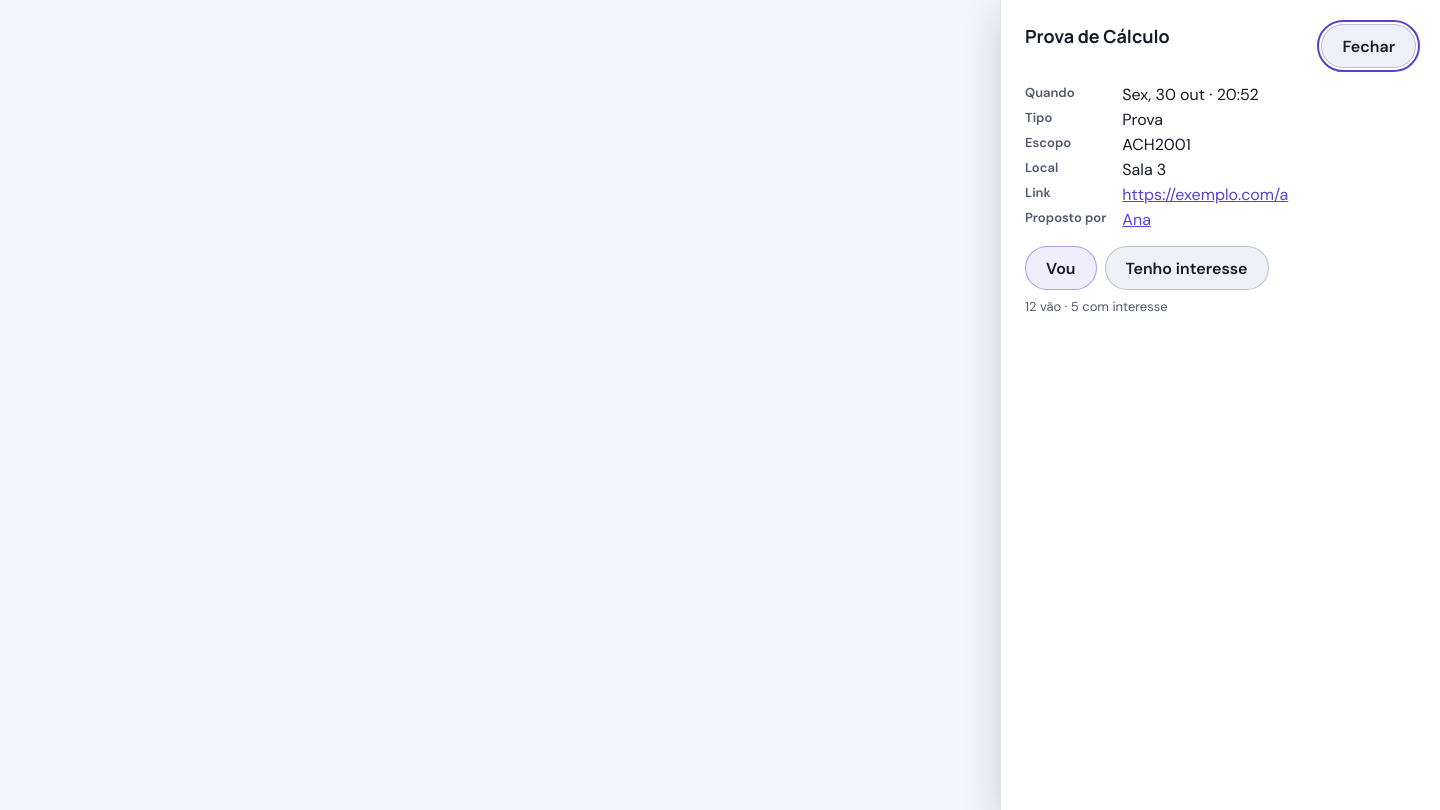
Test case: EventDetail › Vou / Tenho interesse › clicar de novo no botão marcado remove a resposta
What coordinates should you click on to do the following:
click the button "Vou"
I would click on:
 (1061, 268)
Its box is [1025,246,1096,290].
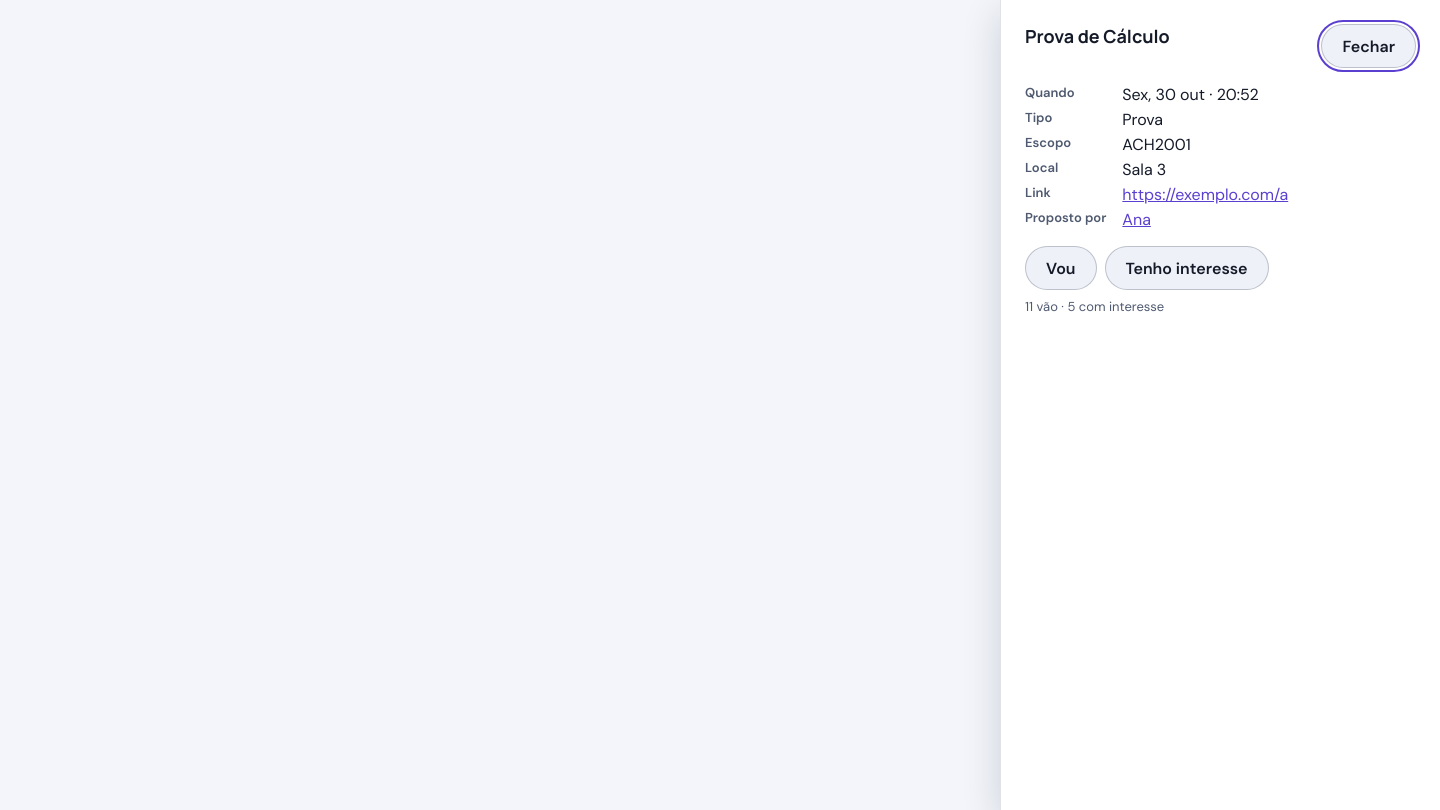
Check: the text "11 vão · 5 com interesse" is shown, box [1025,298,1164,315]
